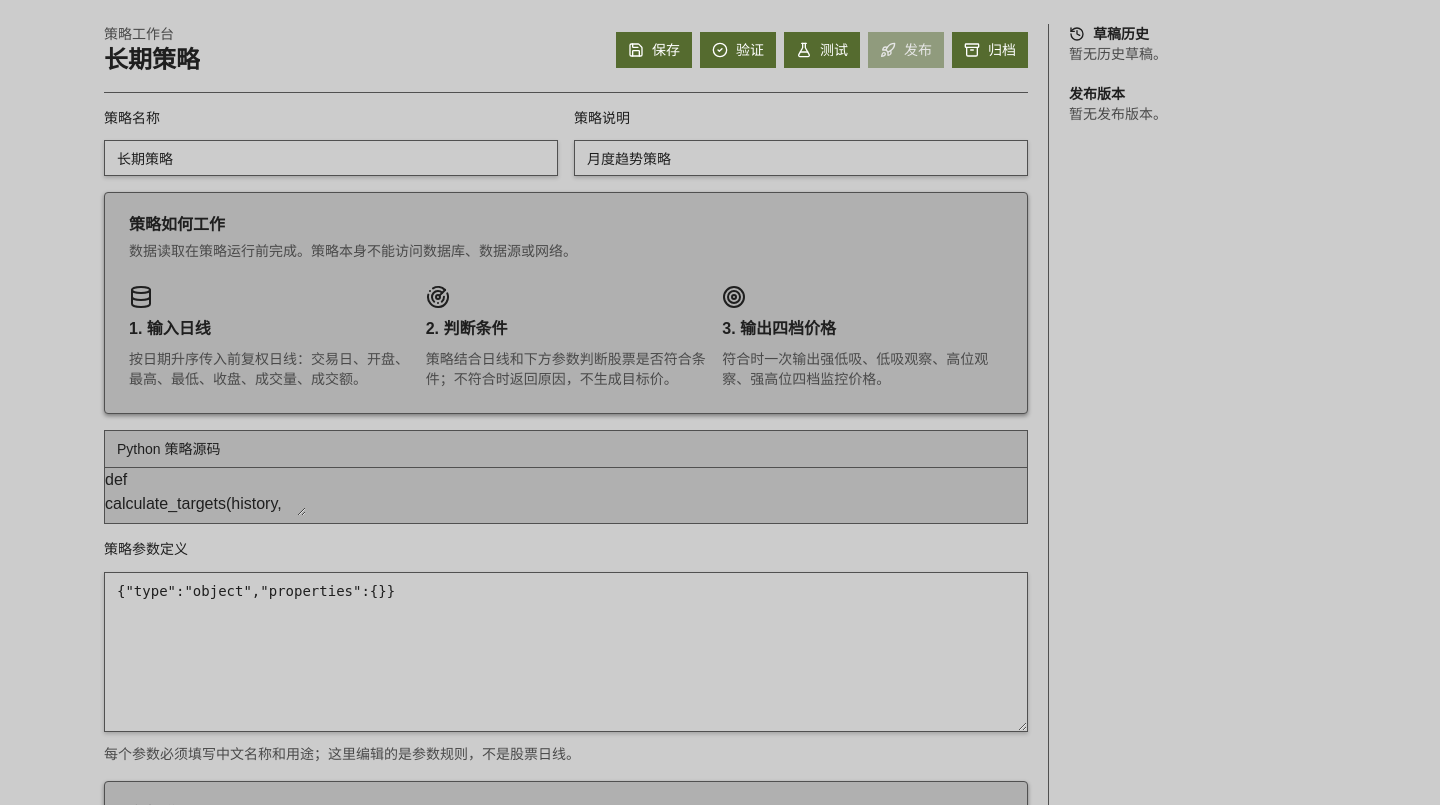
it: 策略工作台 › 可以手动保存，并明确显示保存失败
Expected: the text box named "Python 策略源码" is shown, [105,468,306,516]
What coordinates should you click on to do the following:
click the button "保存"
I would click on:
 (654, 50)
Its box is [616,32,692,68].
(page scrolled)
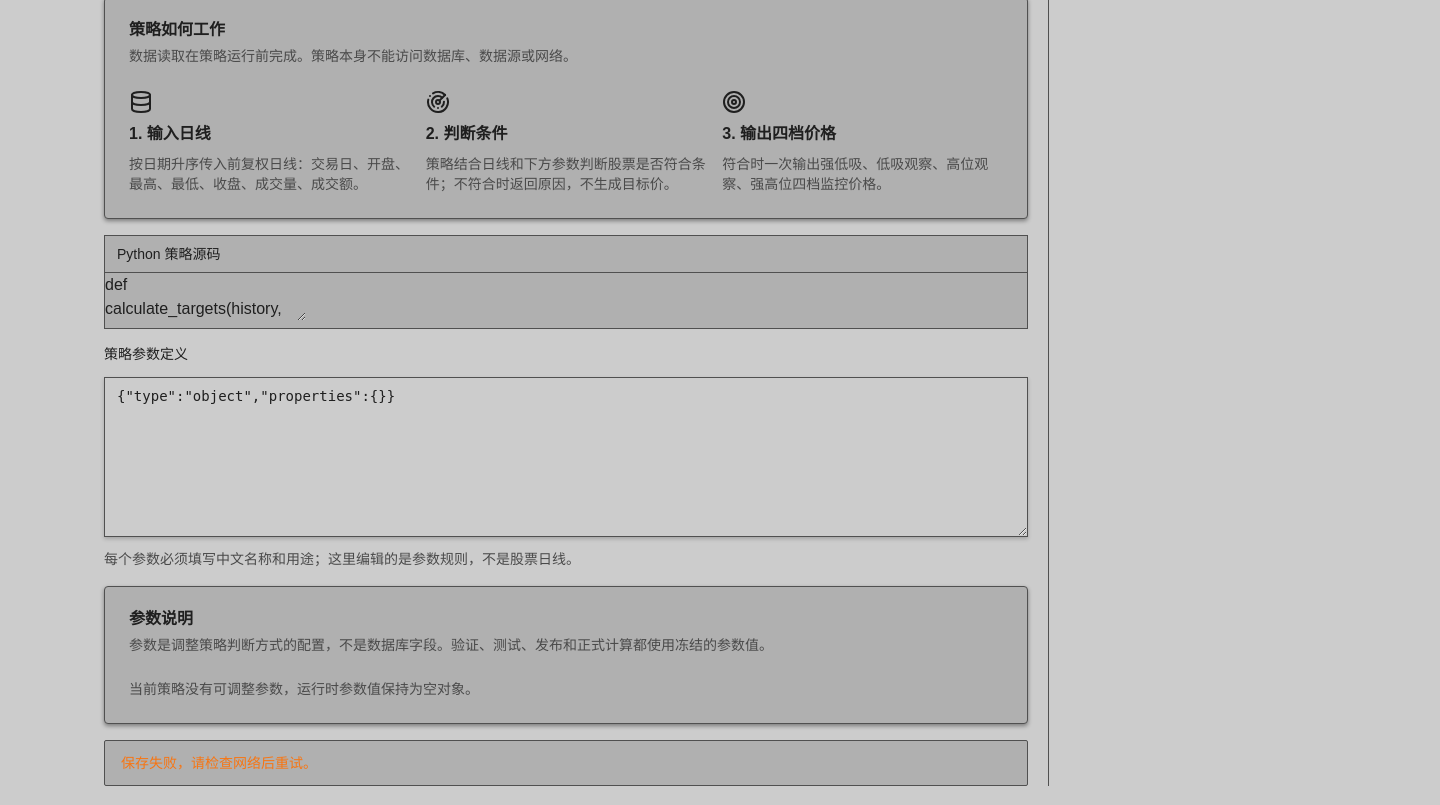
Expected: the text "保存失败，请检查网络后重试。" is shown, [121,754,317,770]
